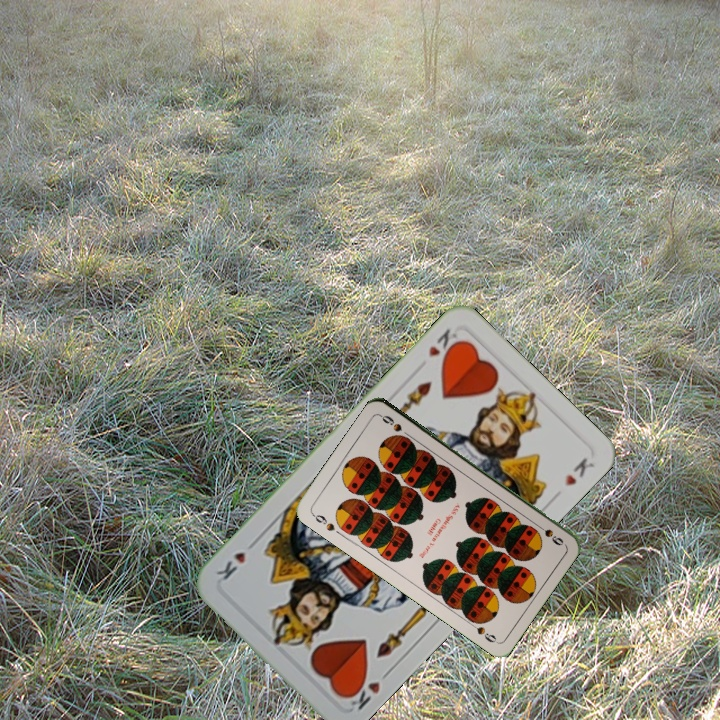HK: (341, 665, 394, 713), (424, 324, 464, 363)
S9: (531, 519, 566, 548), (308, 509, 338, 534)
